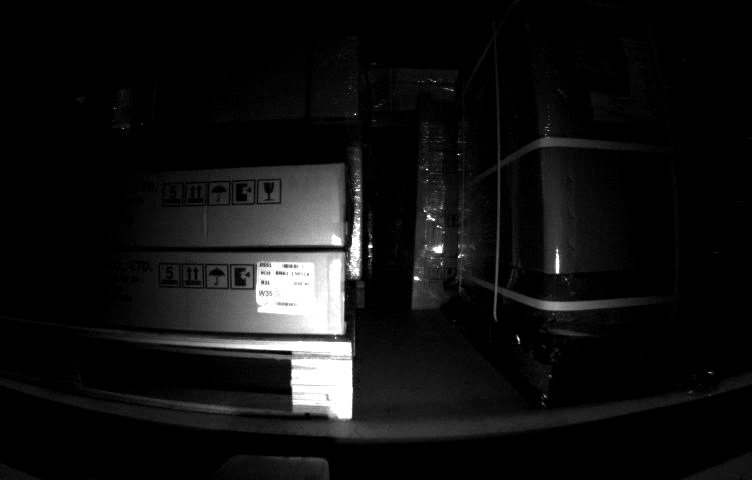True Barcode: (258, 261, 314, 311)
